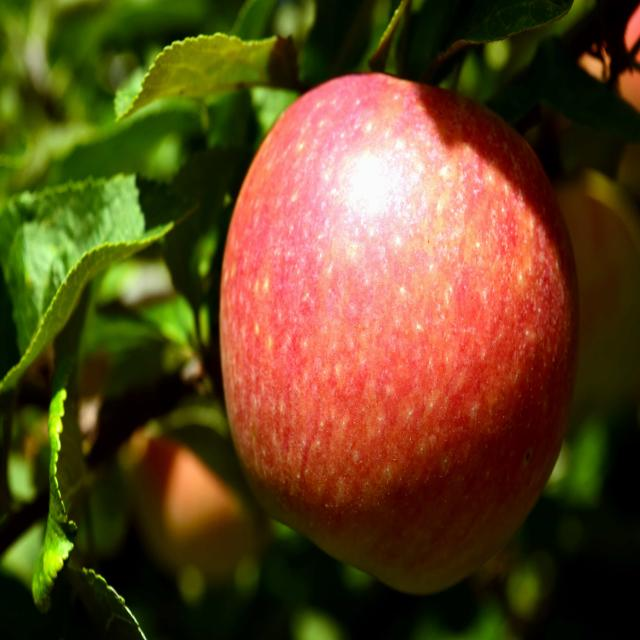Apple: (213, 68, 574, 592)
